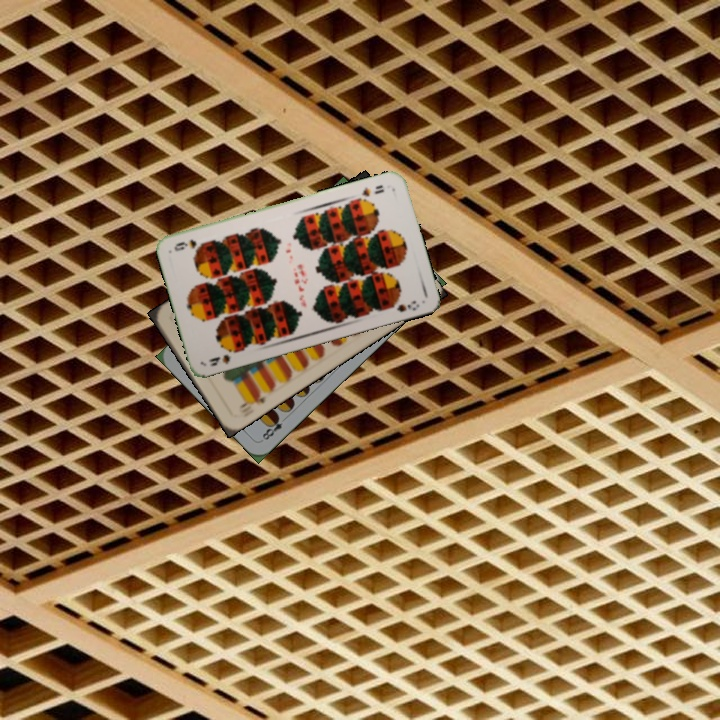E10: (235, 388, 268, 411)
E8: (257, 412, 290, 444)
S9: (204, 344, 242, 369), (357, 181, 386, 199)
